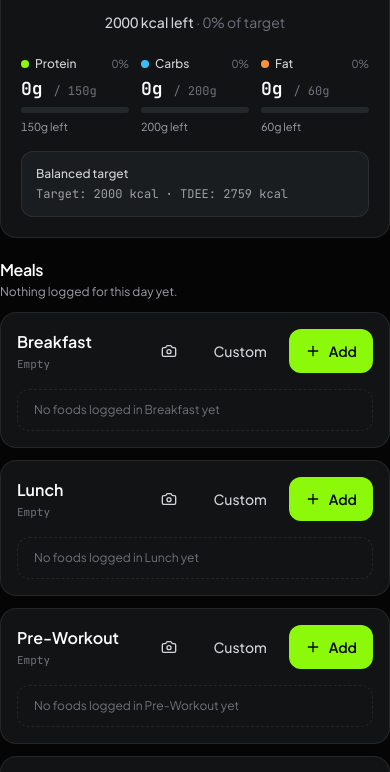
Test: Add-food and custom-food dialogs › opens an accessible add-food dialog scoped to the chosen meal and logs a food
(page scrolled)
Click the button with aria-label "Add food to Breakfast": [331, 351] box x1=289 y1=329 x2=373 y2=373
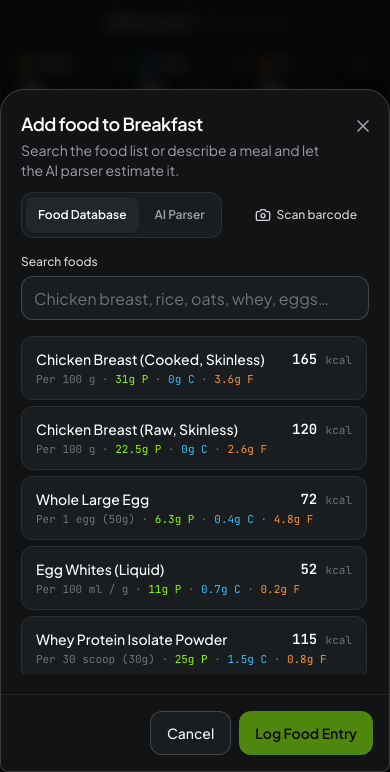
Now the dialog shows "Add food to Breakfast", box x1=21 y1=112 x2=203 y2=135
Now the button that starts with "Chicken Breast (Cooked, Skinless)" is shown
Click the button that starts with "Chicken Breast (Cooked, Skinless)": [194, 368] box x1=21 y1=336 x2=367 y2=400
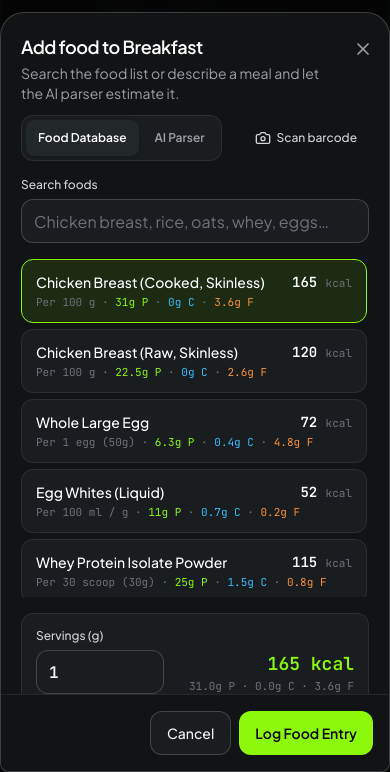
Now the button that starts with "Chicken Breast (Cooked, Skinless)" is pressed, box x1=21 y1=259 x2=367 y2=323
Click the button "Log Food Entry": [306, 733] box x1=239 y1=711 x2=373 y2=755
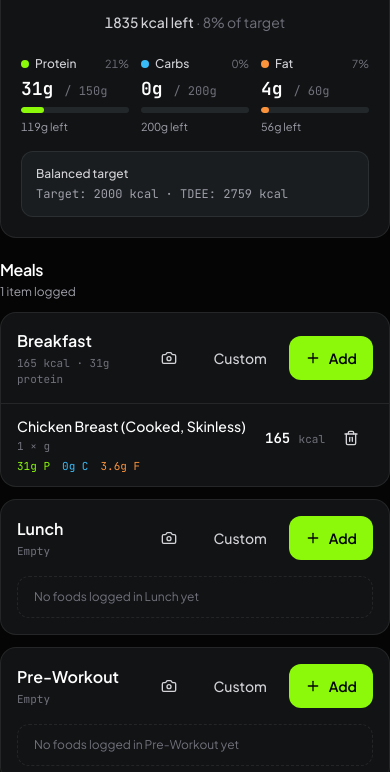
Now the dialog is gone
